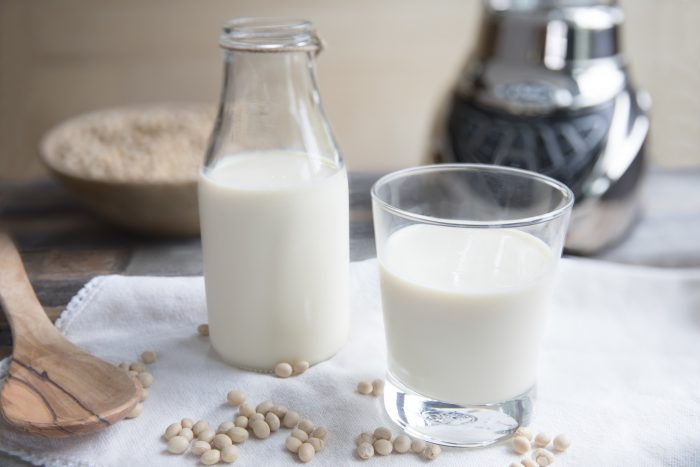glass of milk: (374, 172, 570, 450), (204, 29, 352, 369)
